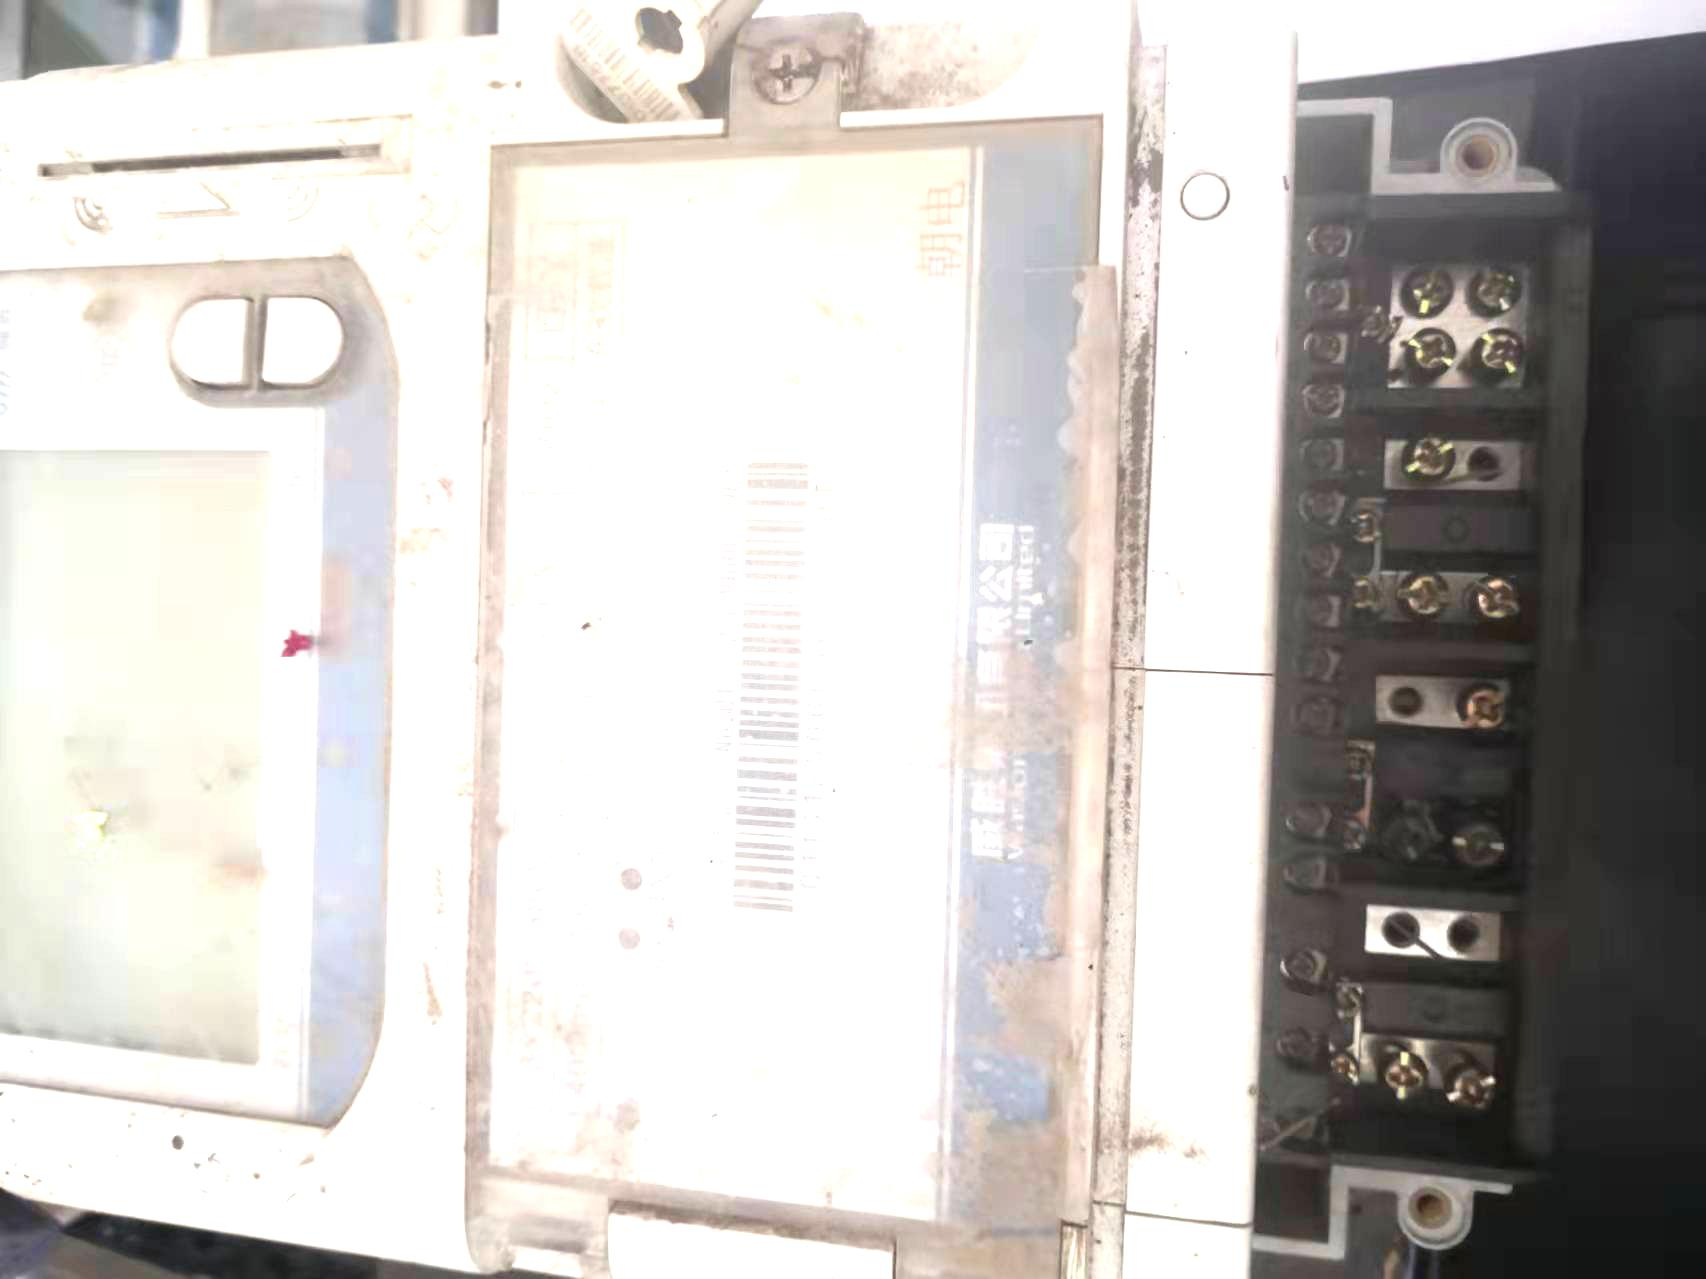digital: (5, 1, 1136, 1279)
